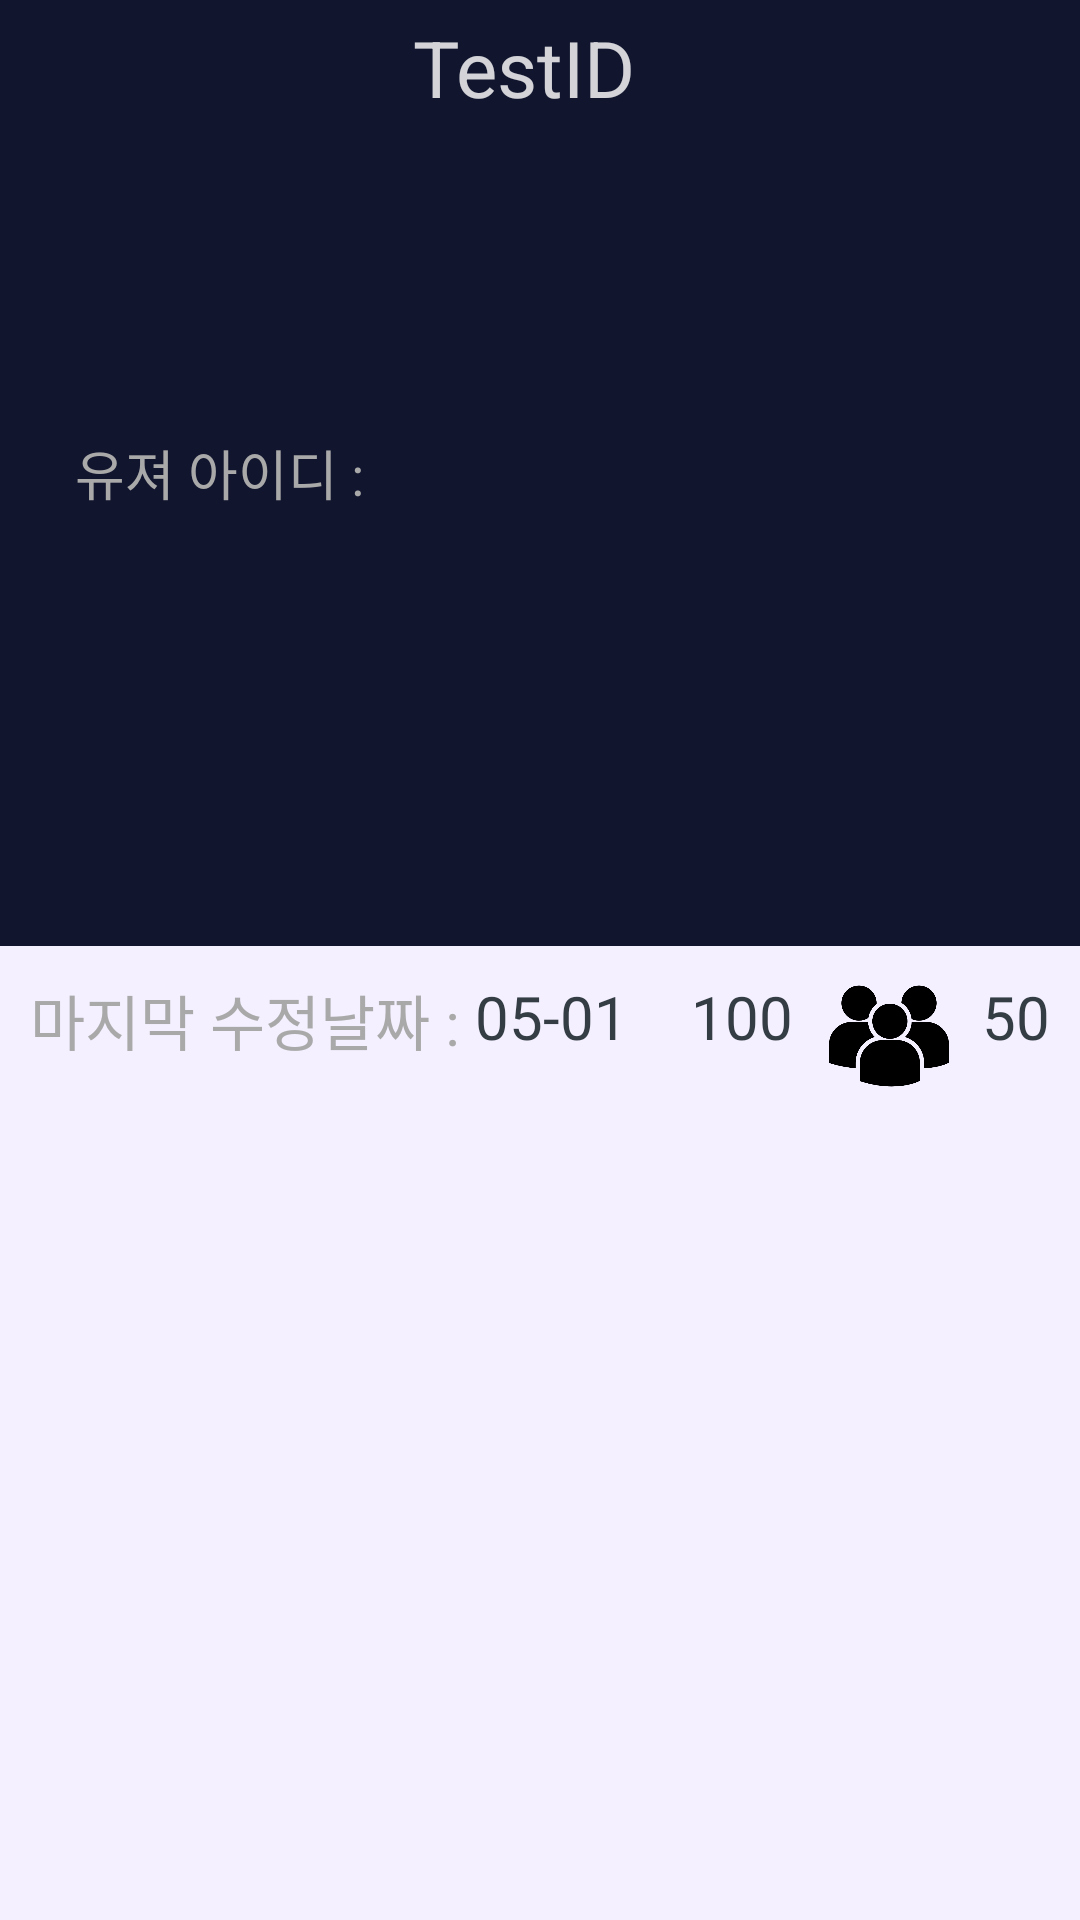

Named icons in this screenshot (1080px x 1920px) and their centers, point (x, y):
users: point (889, 1036)
